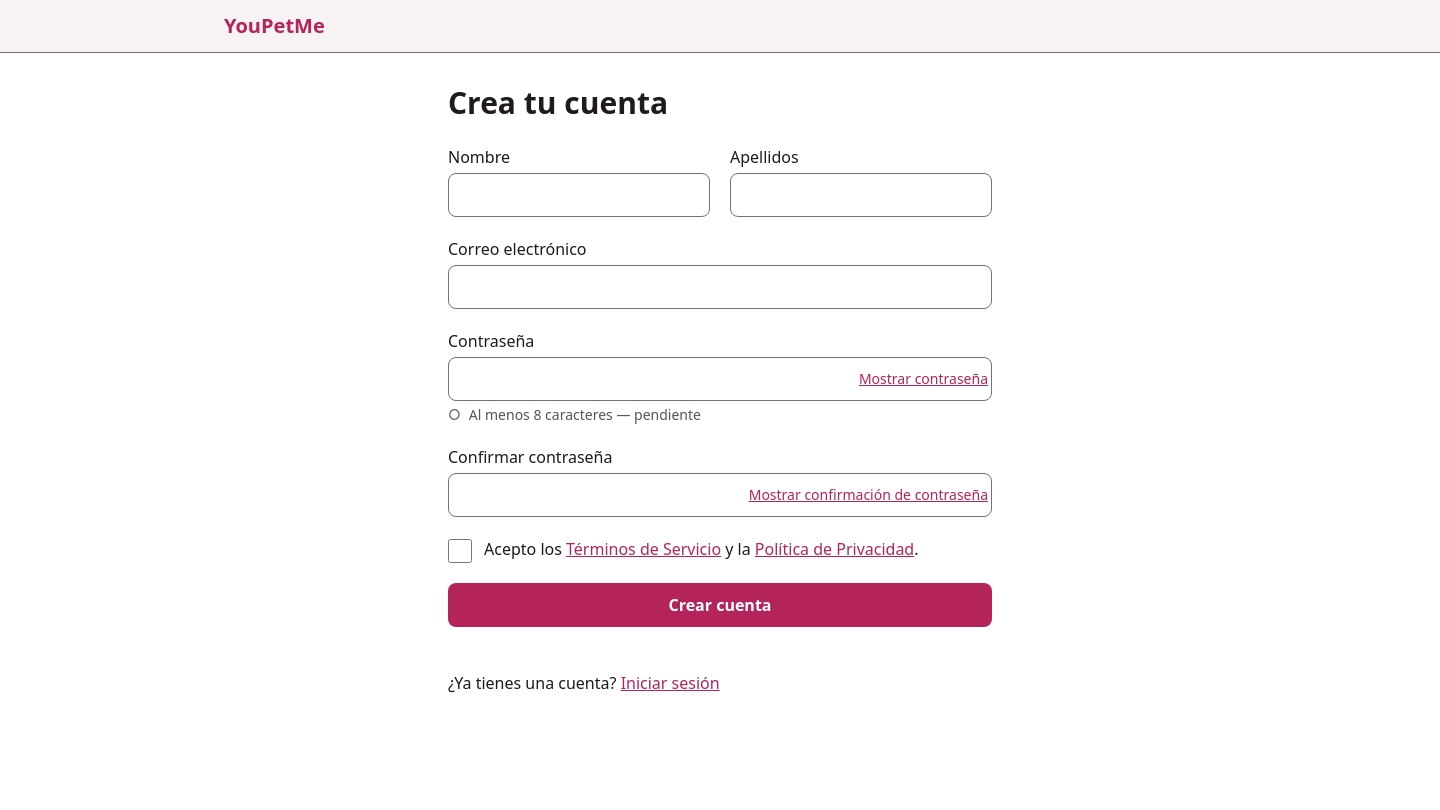
Scenario: AppRoutes › /register › registers, lands on the authenticated home and greets the new user
The image size is (1440, 810).
Type "Ana" into the field labelled "Nombre" at (579, 195), box [448,173,710,217]
Type "Ruiz" into the field labelled "Apellidos" at (861, 195), box [730,173,992,217]
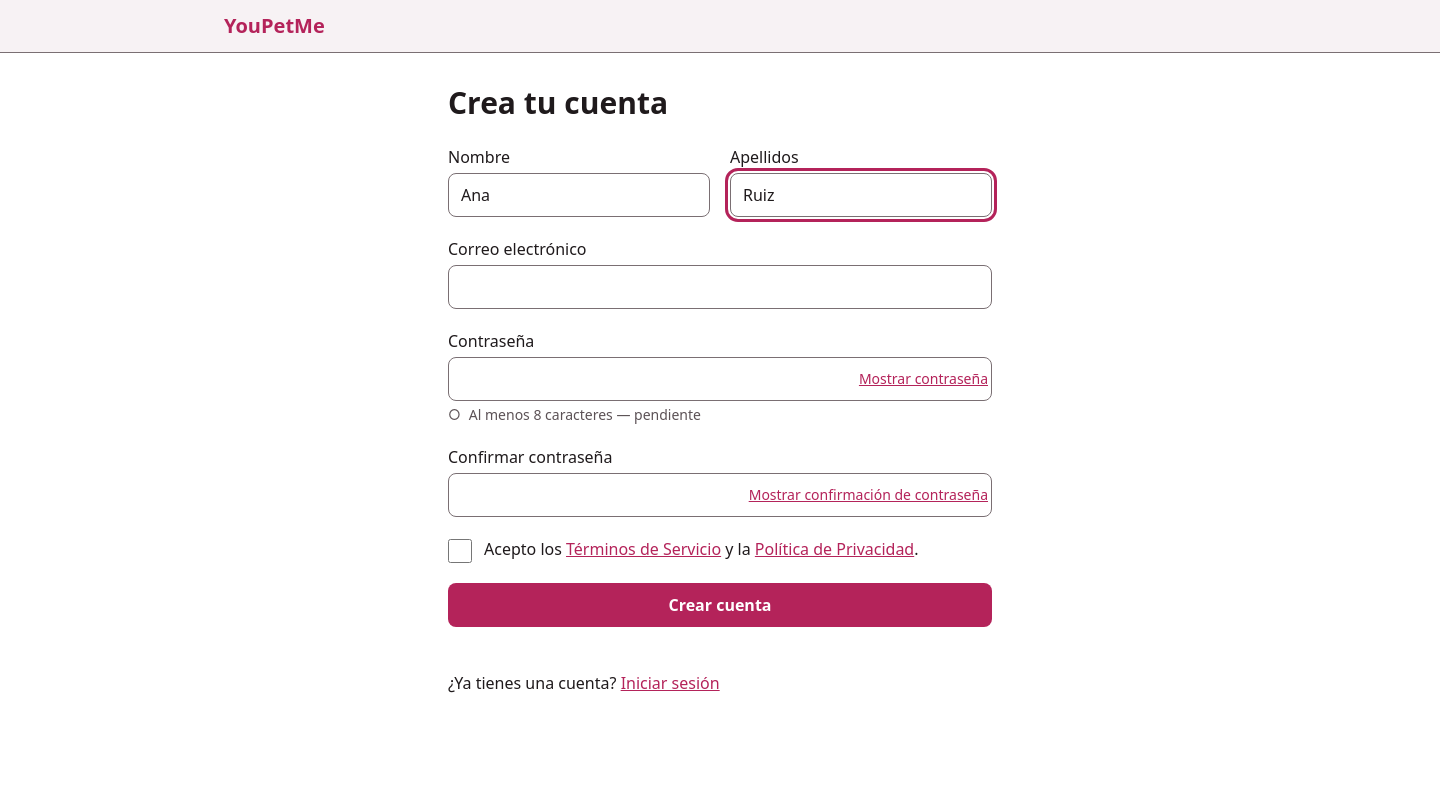
Type "ana@example.com" into the field labelled "Correo electrónico" at (720, 287), box [448,265,992,309]
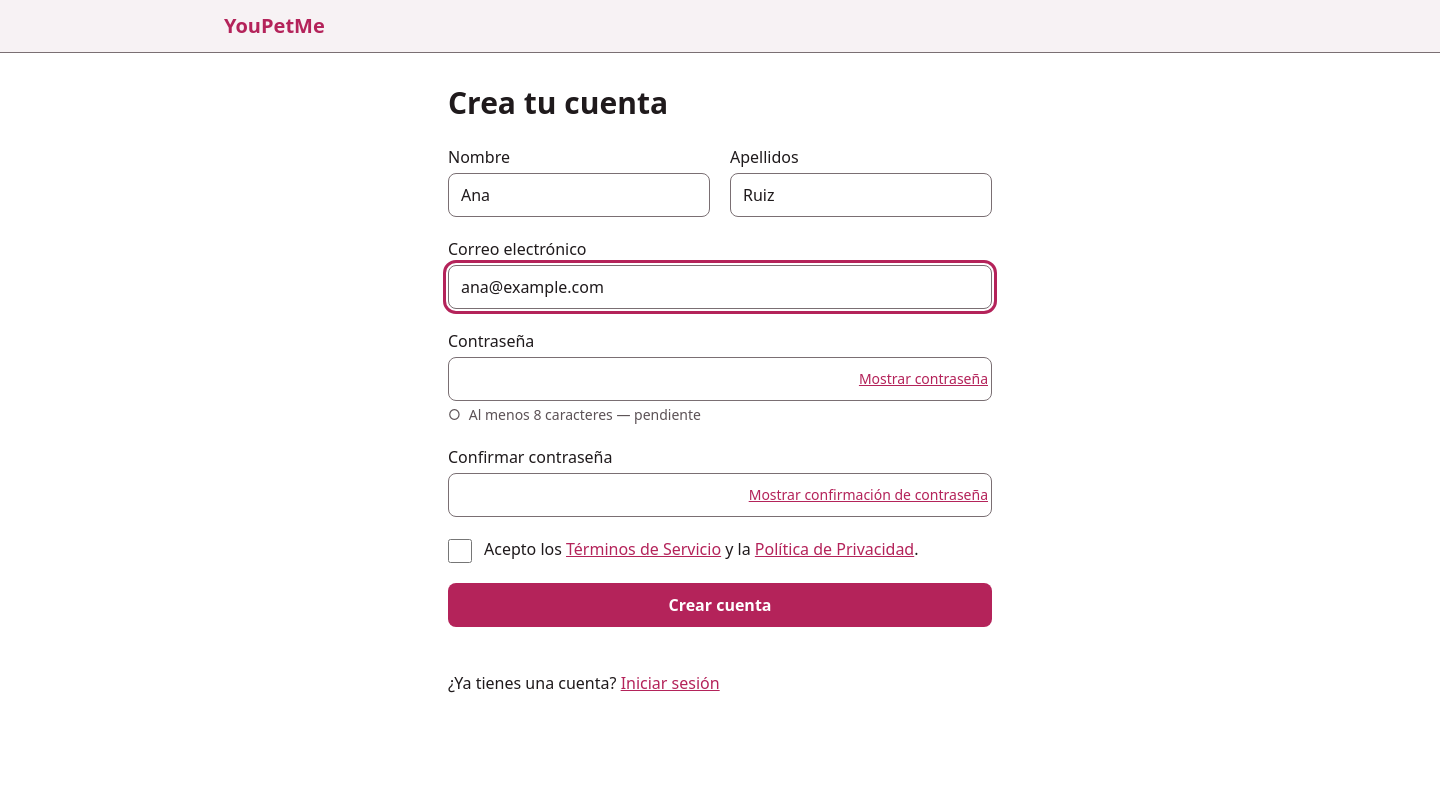
Type "my-secure-passphrase" into the password field labelled "Contraseña" at (720, 379), box [448,357,992,401]
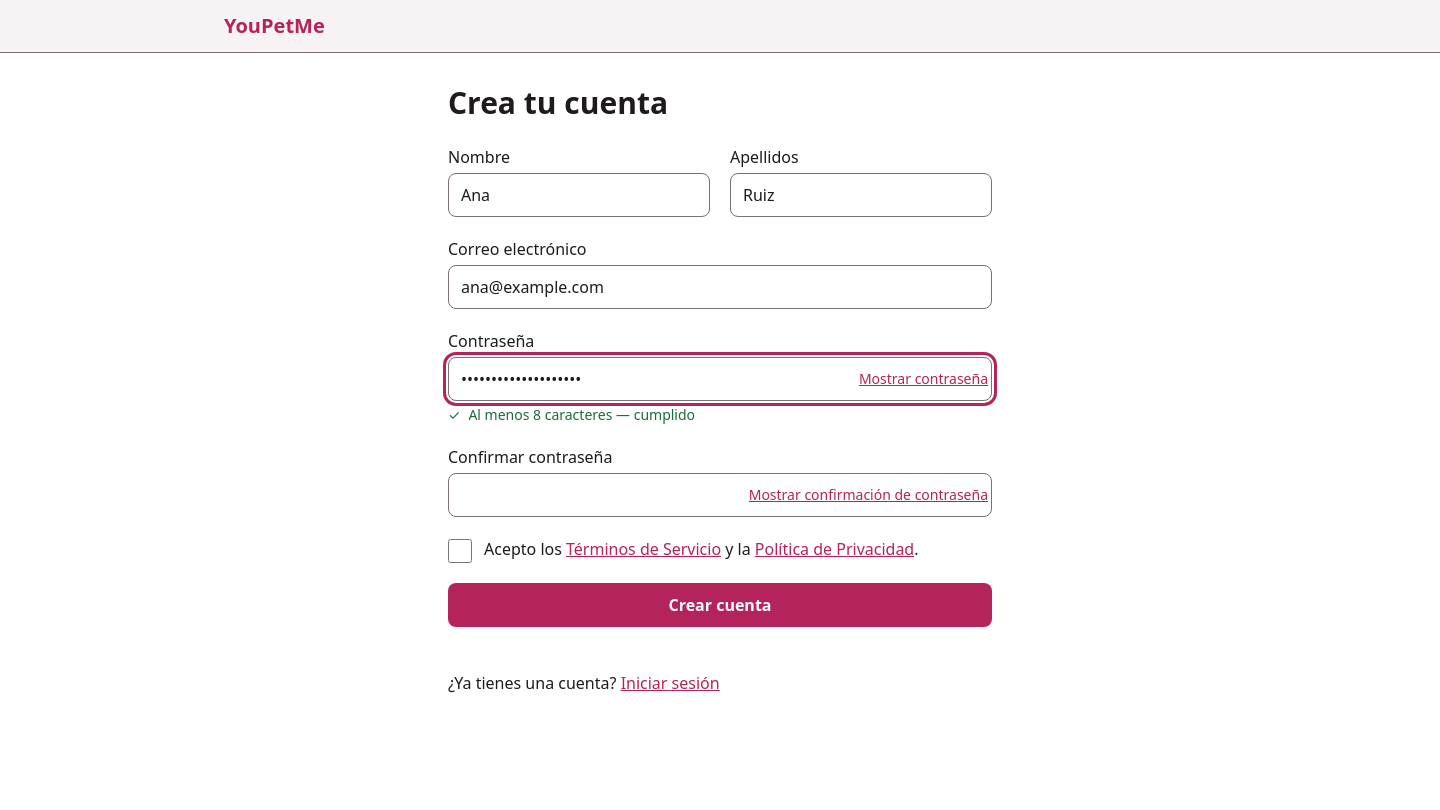
Type "my-secure-passphrase" into the password field labelled "Confirmar contraseña" at (720, 495), box [448,473,992,517]
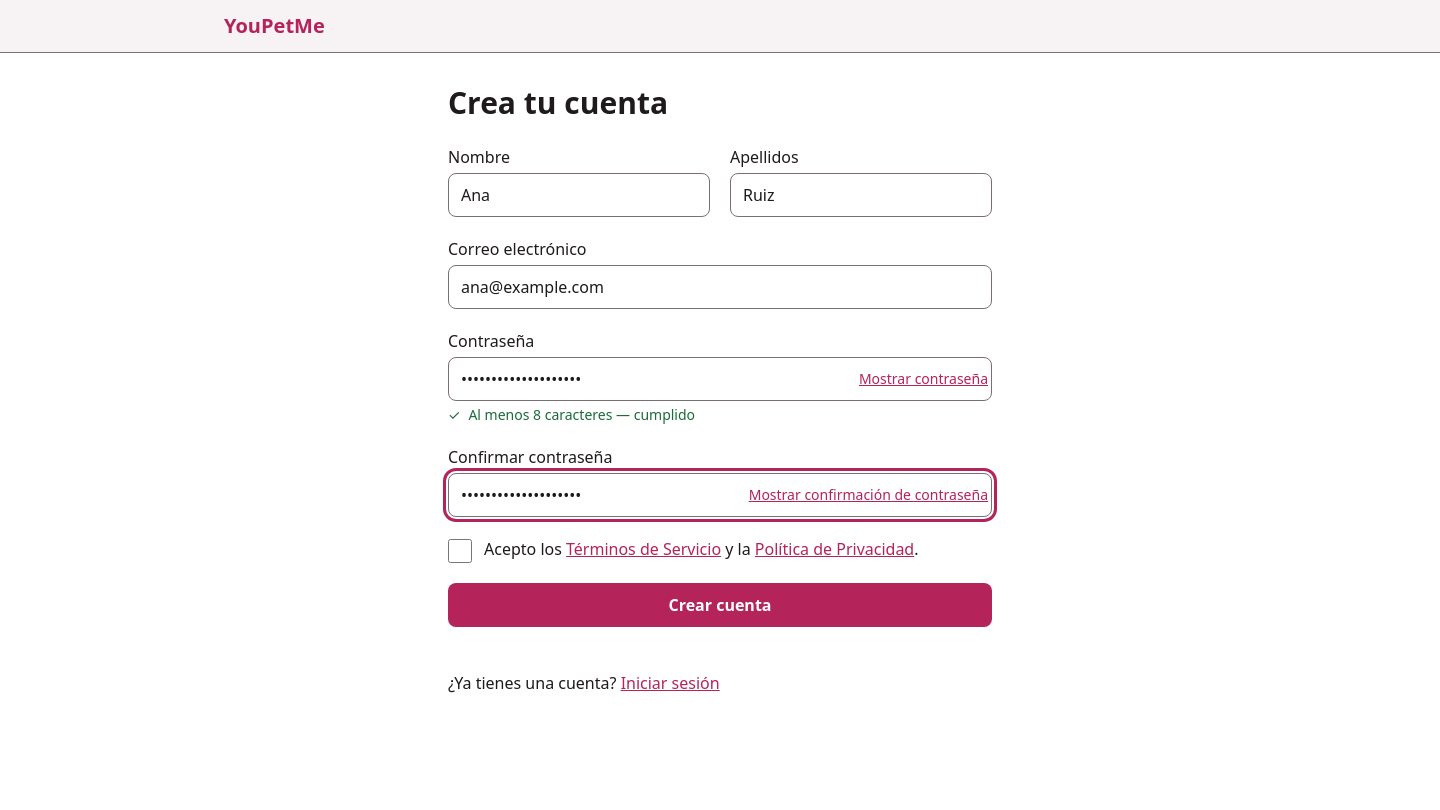
Click the checkbox labelled "Acepto los" at (460, 551), box [448,539,472,563]
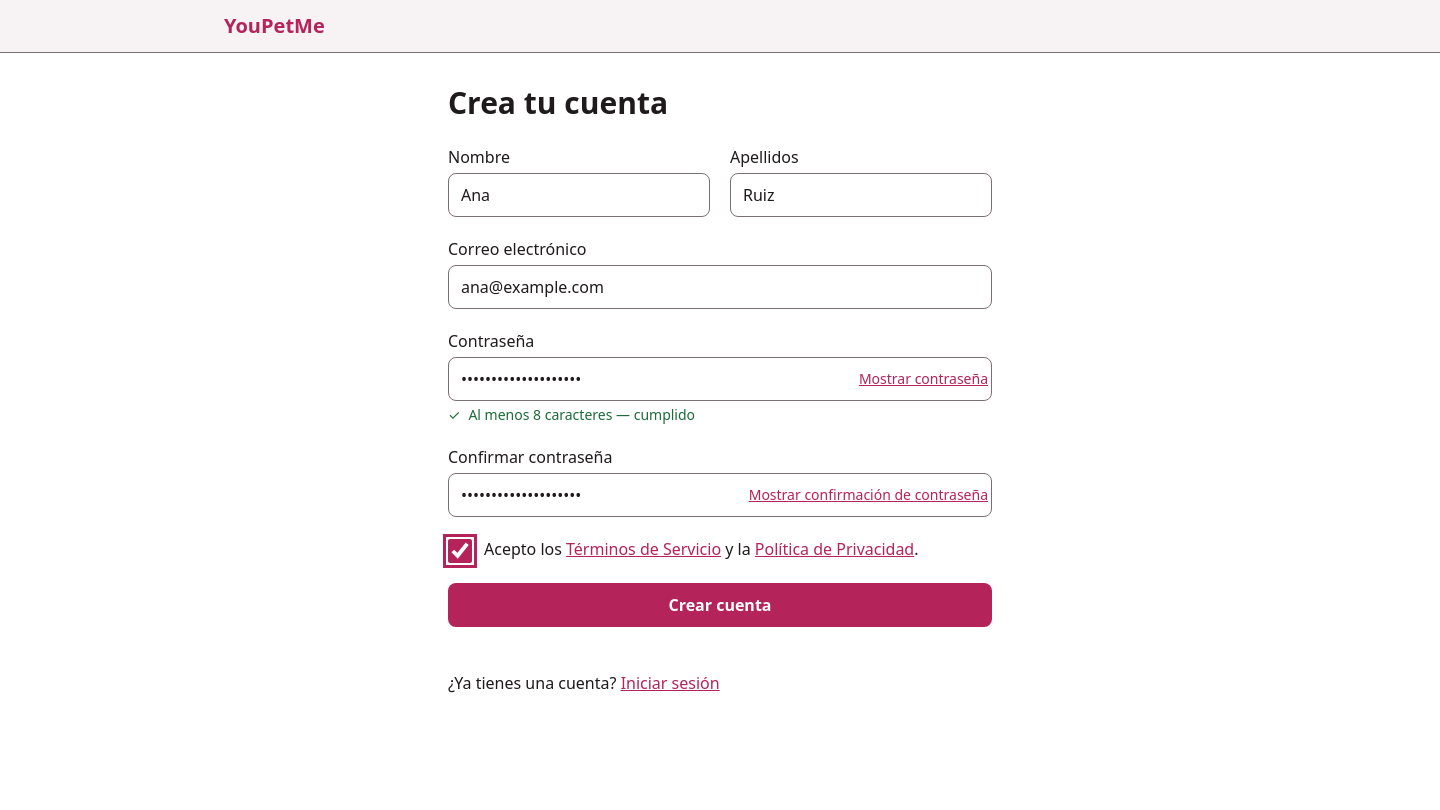
Click the button "Crear cuenta" at (720, 605), box [448,583,992,627]
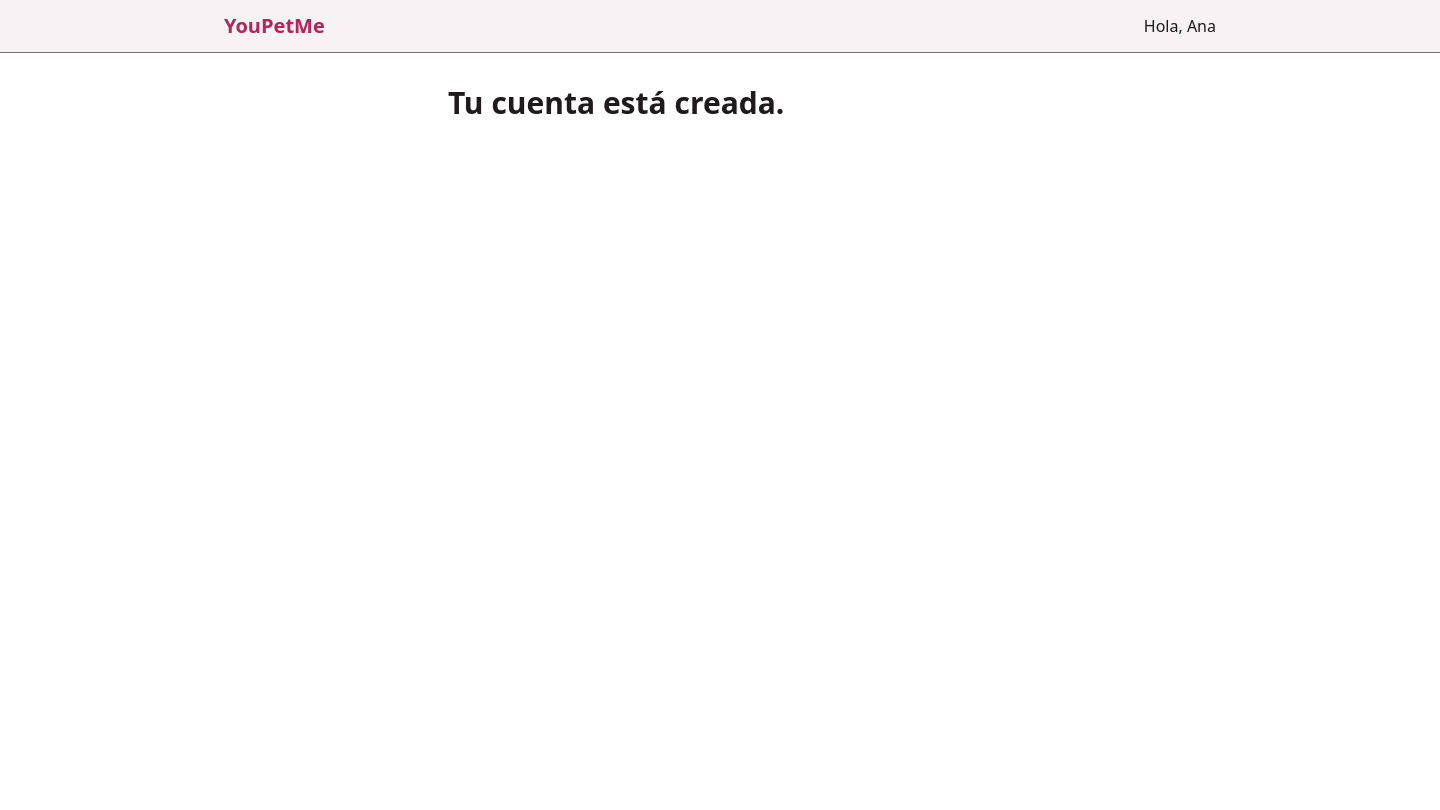
Result: the text "Hola, Ana" is shown at [1144,14,1216,38]
Result: the heading reads "Tu cuenta está creada." at [448,82,784,123]
